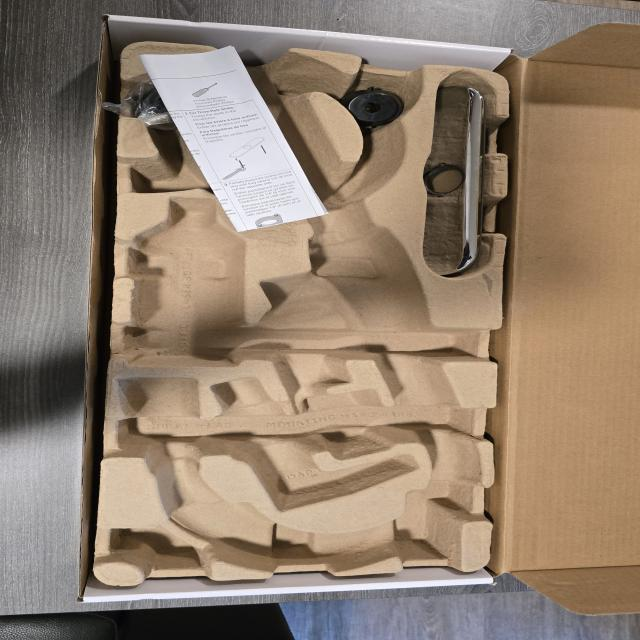1m: (121, 45, 478, 570)
2m: (208, 377, 419, 511)
3m: (130, 195, 244, 368)
4: (420, 87, 485, 277)
5: (350, 89, 405, 126)
6m: (130, 141, 262, 202)
7o: (106, 65, 234, 131)
8: (136, 45, 327, 233)
